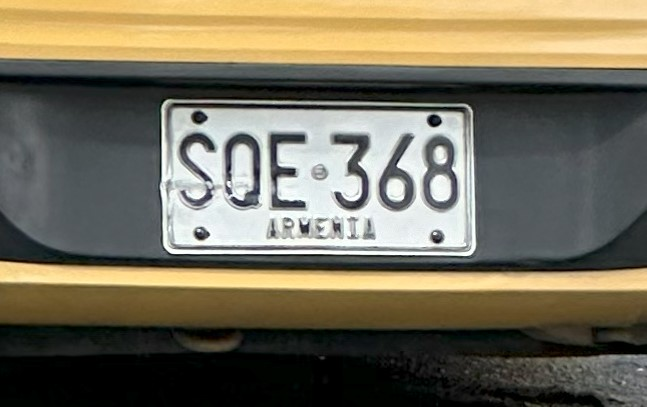number plate: (0, 61, 646, 268), (161, 100, 474, 255)
